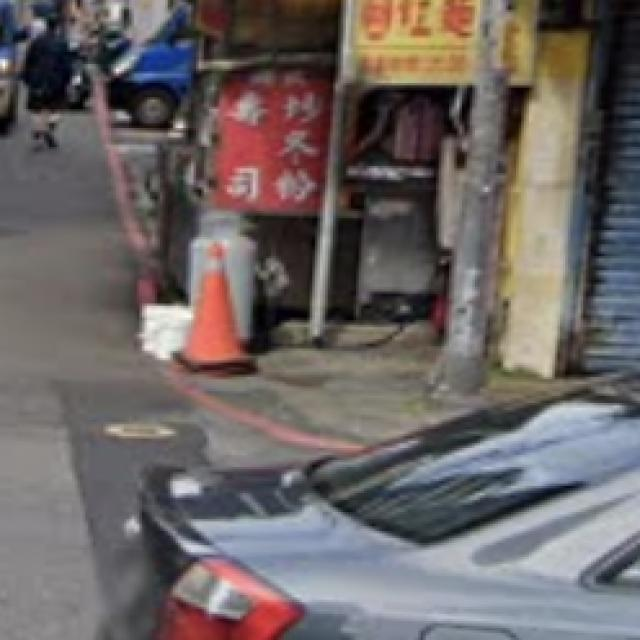cone: (182, 230, 249, 381)
